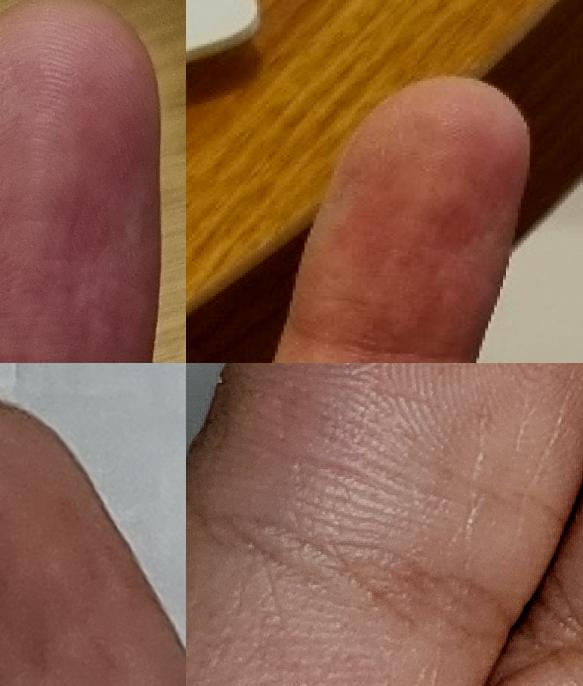Fingerprints: (198, 363, 583, 633), (285, 76, 532, 363), (0, 0, 161, 363), (0, 400, 186, 686)
